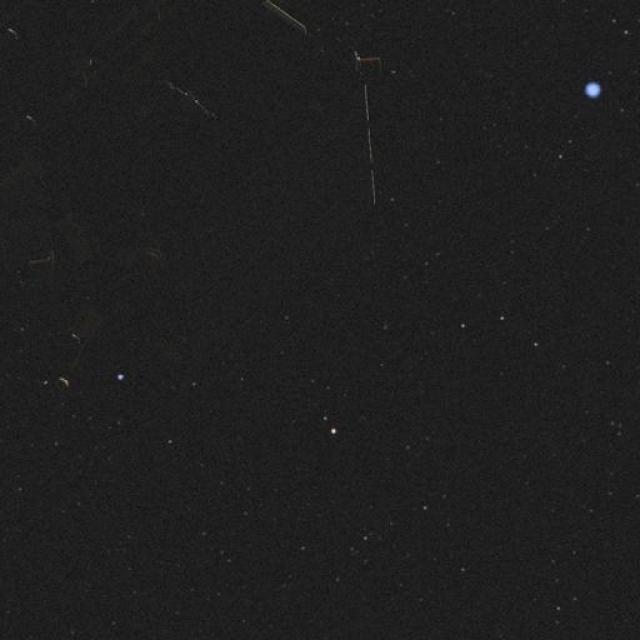proba_2: (27, 0, 509, 232)
